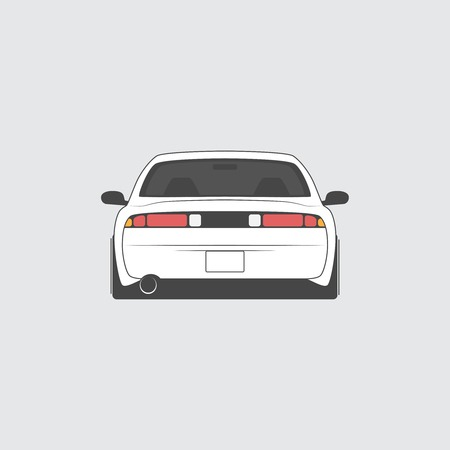car: (103, 150, 337, 302)
